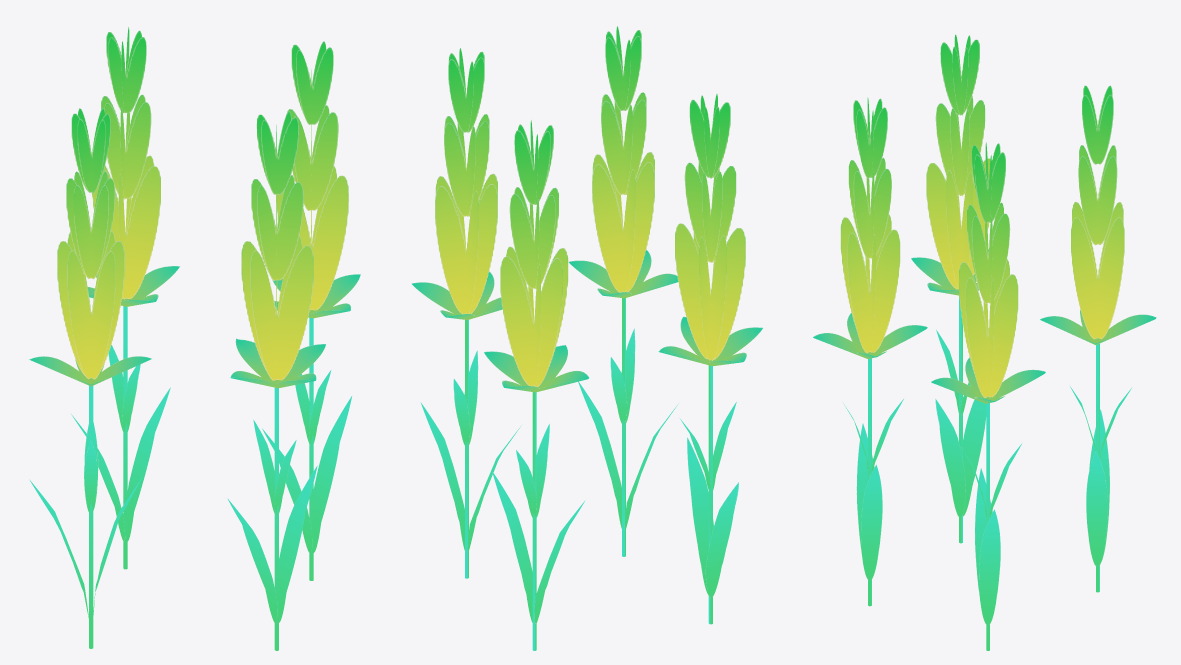
The model's file is Flowers_n03_18.fbx.
The picture shows the model from 3 angles, left to right: view 1: azimuth 30°, elevation 25°; view 2: azimuth 150°, elevation 25°; view 3: azimuth 270°, elevation 25°; orthographic projection. The views are drawn at different scales.
Visible parts, largest first — view 1: polySurface597; view 2: polySurface597; view 3: polySurface597.
Part boxes in pixels (bbox=[...]): polySurface597: bbox=[29, 27, 360, 650]; polySurface597: bbox=[411, 26, 762, 650]; polySurface597: bbox=[813, 34, 1156, 650].
Bounding box in the file's own units: 80.54 × 117 × 75.86.
Materials: 1 (1 with a texture image).
